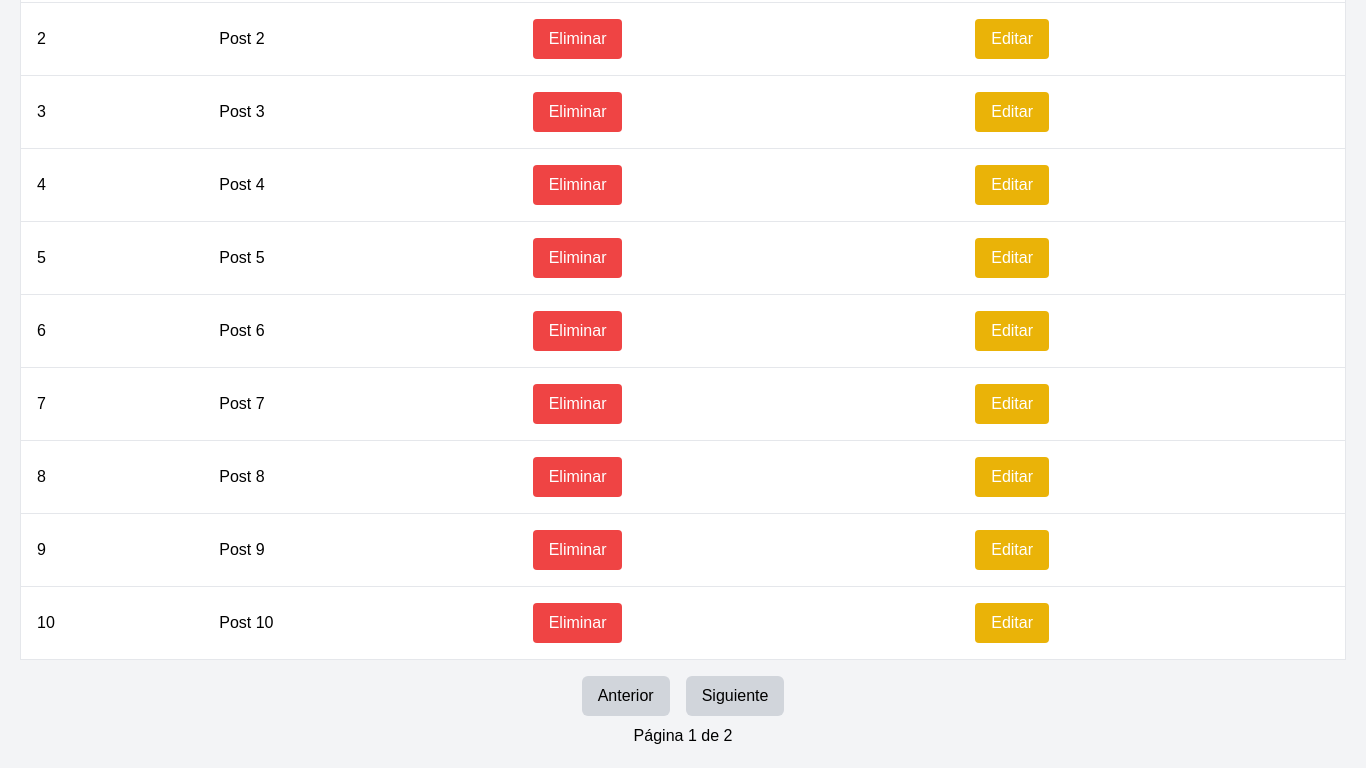
Test: PostList Component › disables the previous button on the first page and navigates correctly
(page scrolled)
Expected: the text "Página 1 de 2" is shown, [634,724,732,748]
Expected: the button "Anterior" is disabled, [582,676,670,716]
Click the button "Siguiente" at (735, 696), box [686,676,784,716]
(page scrolled)
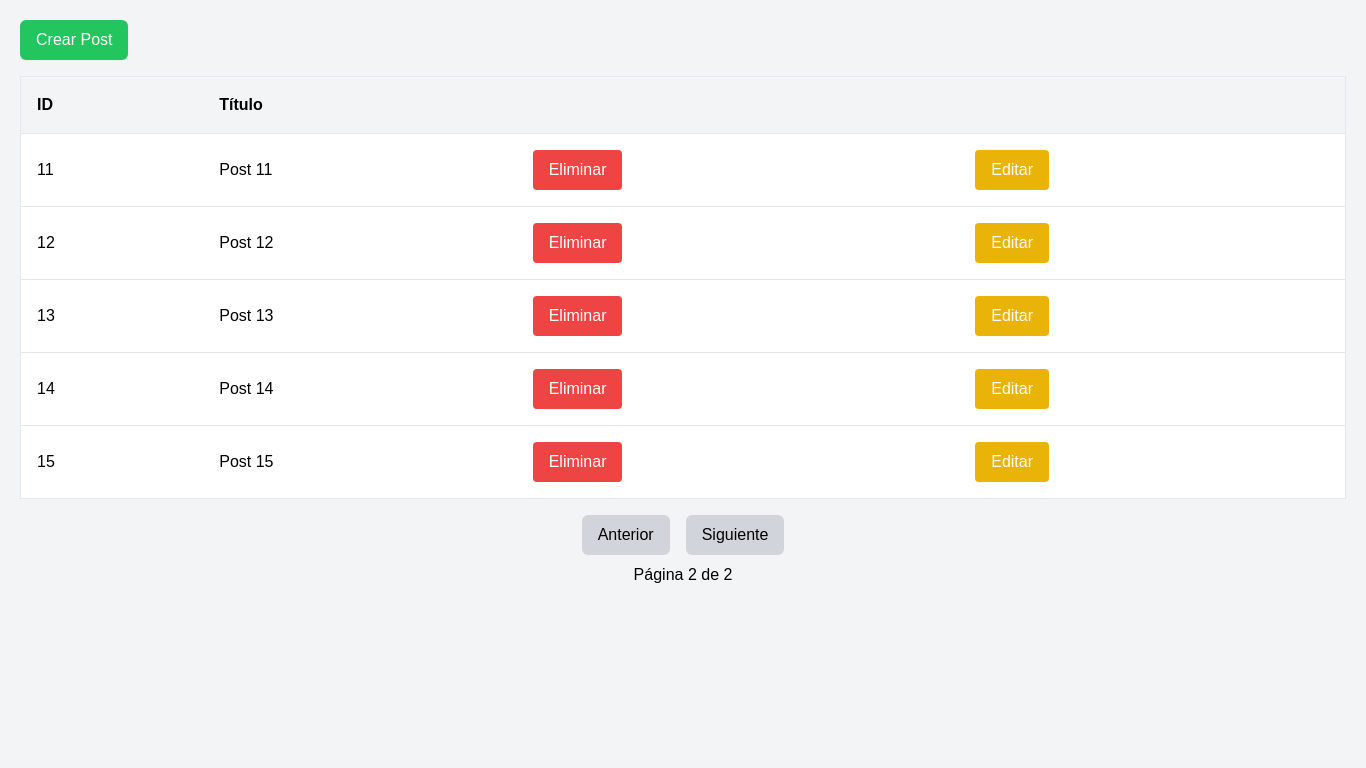
Expected: the text "Página 2 de 2" is shown, [634,563,732,587]
Expected: the button "Anterior" is enabled
Click the button "Anterior" at (626, 535), box [582,515,670,555]
(page scrolled)
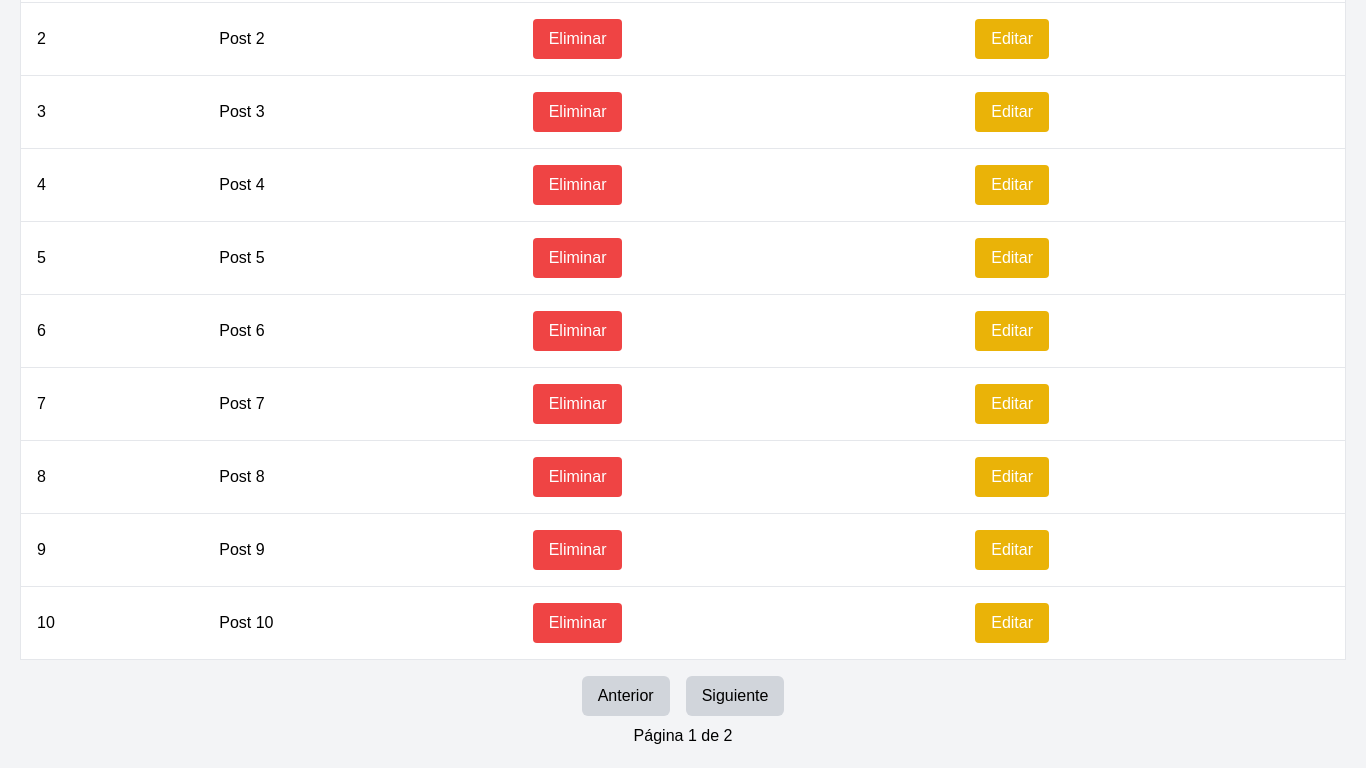
Expected: the text "Página 1 de 2" is shown, [634,724,732,748]
